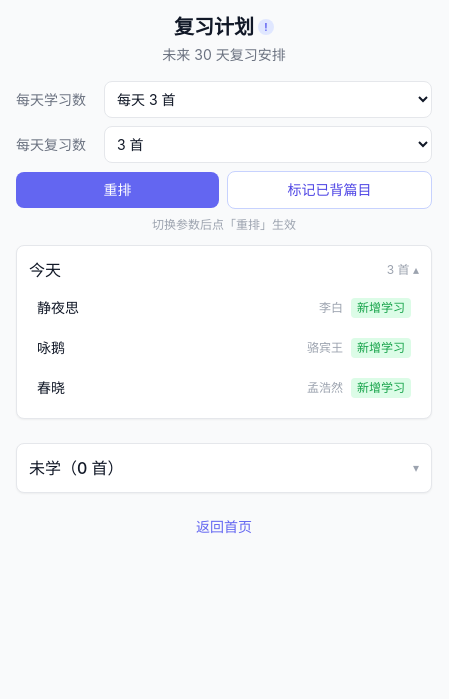
Test: ReviewPlanPage › toggles calc tip on clicking the help icon
The width and height of the screenshot is (449, 699).
Expected: the text "复习计划按以下规则计算" is not shown
Click the text "!". click: (266, 27)
box: [258, 19, 274, 35]
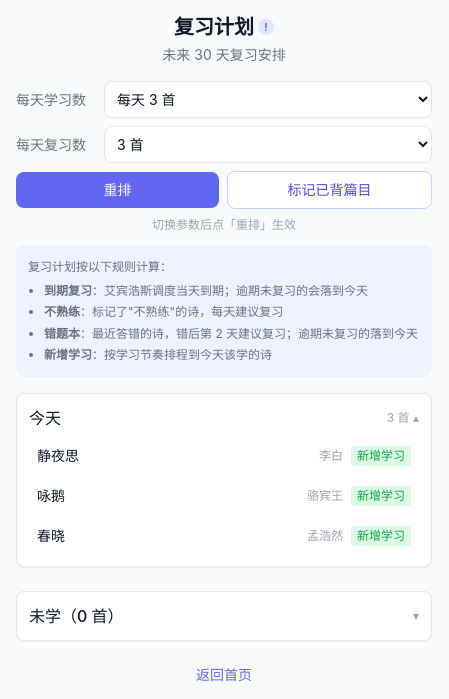
Expected: the text "复习计划按以下规则计算" is shown, [28, 259, 172, 274]
Click the text "!". click: (266, 27)
box: [258, 19, 274, 35]
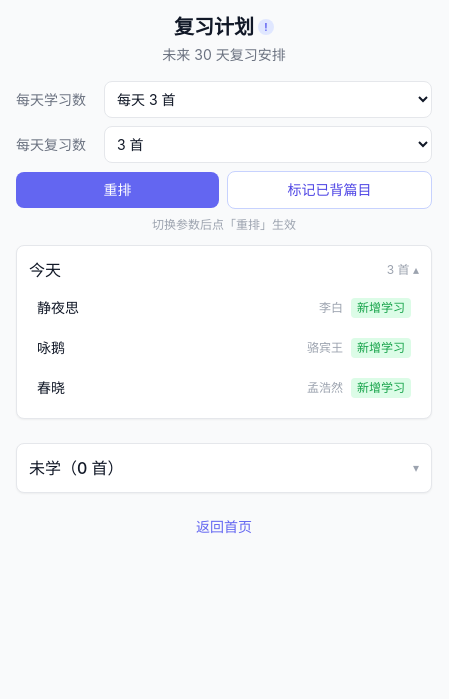
Expected: the text "复习计划按以下规则计算" is gone
